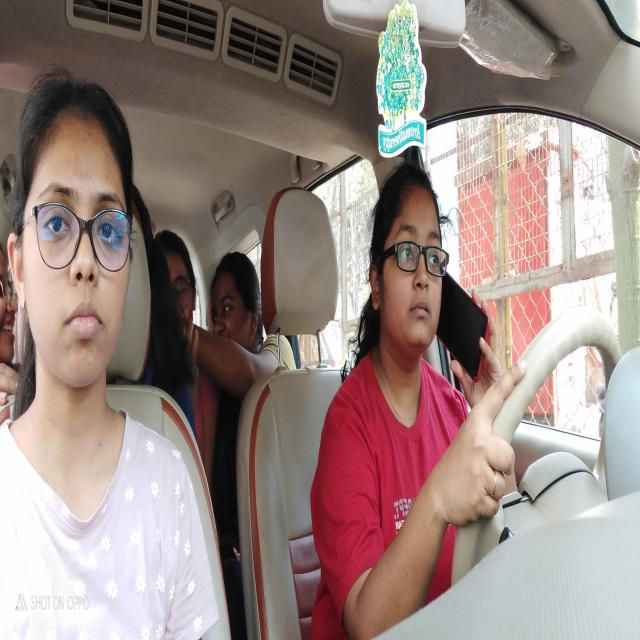mobile: (441, 274, 490, 391)
person: (10, 64, 135, 402), (366, 170, 446, 382), (211, 252, 263, 374), (158, 222, 198, 366), (1, 228, 17, 388)
